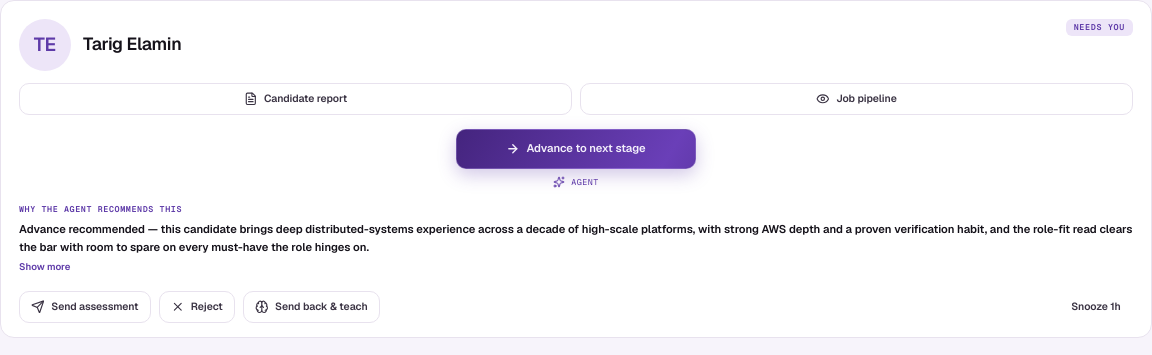
Test: AgentDecisionCard decision narrative › renders a 2-line clamp with a Show more toggle on long agent reasoning
The width and height of the screenshot is (1152, 355).
Step 1. Click the button "Show more" → click(45, 267), box [19, 260, 70, 274]
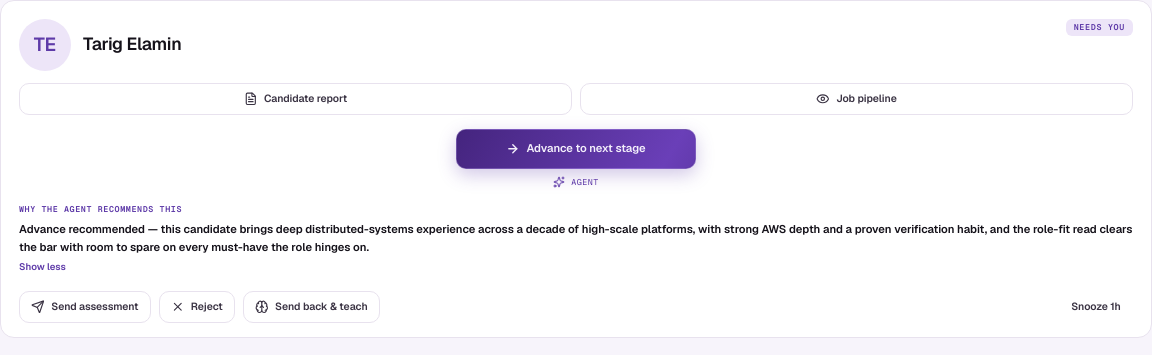
Expected: the button "Show less" is shown, [19, 260, 66, 274]
